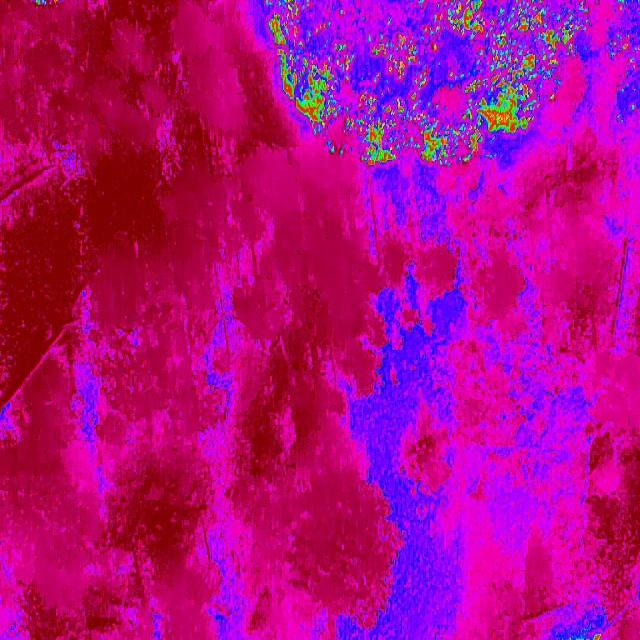fire: (262, 0, 586, 170), (608, 20, 640, 72), (564, 632, 606, 640)
